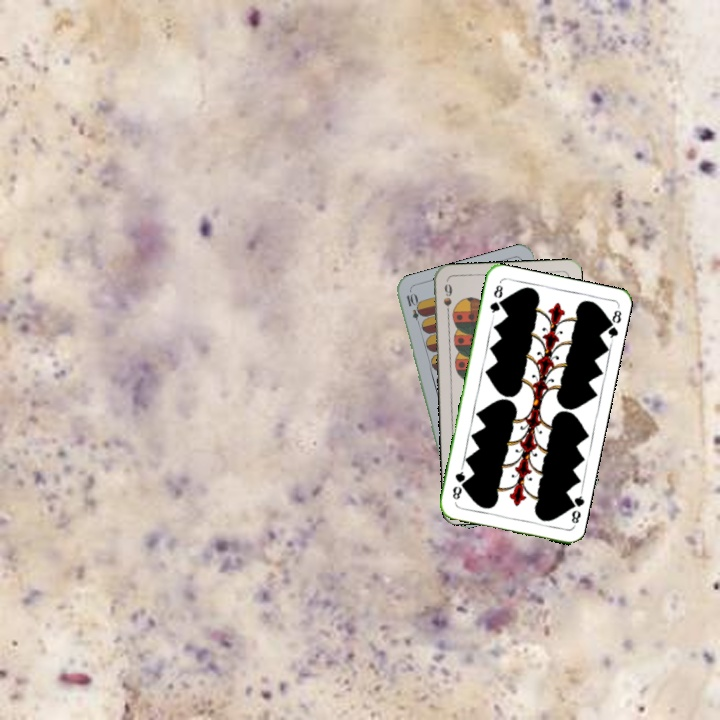E10: (402, 289, 425, 329)
G8: (564, 488, 586, 529), (486, 281, 505, 319)
S9: (439, 280, 455, 320)
